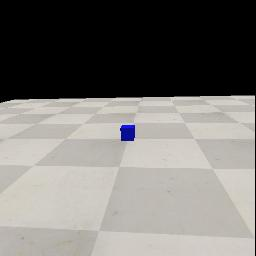box: (120, 125, 135, 141)
